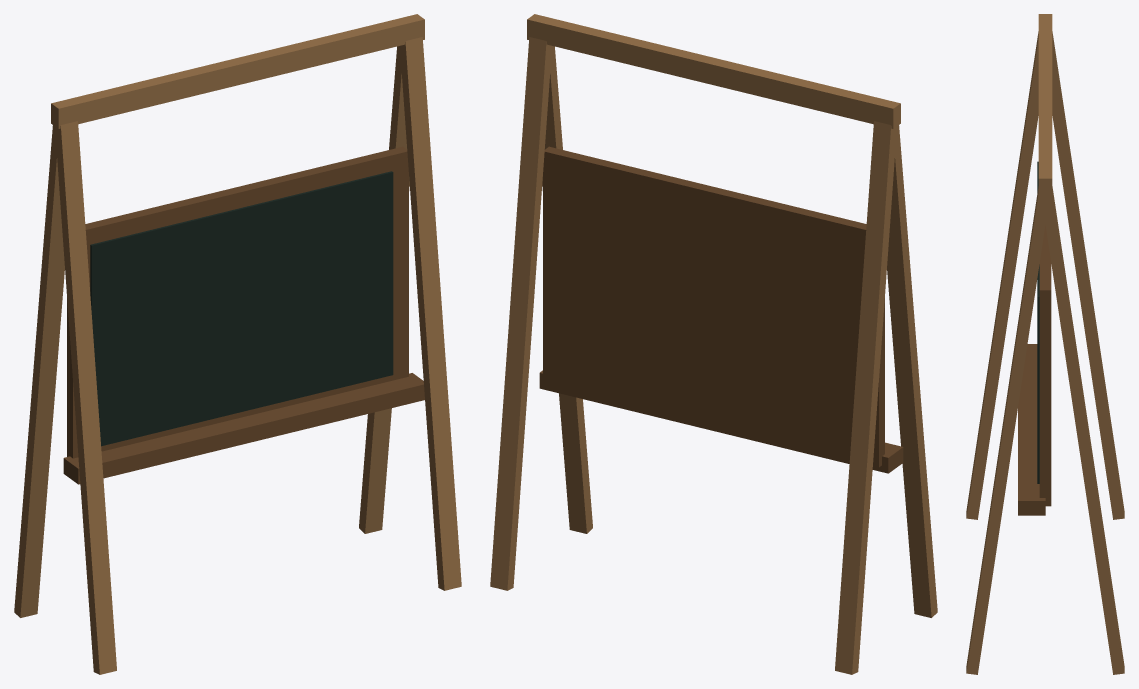
Rendered from gb-scoreboard.glb.
3 views of the same model, side by side, from view 1: azimuth 30°, elevation 25°; view 2: azimuth 150°, elevation 25°; view 3: azimuth 270°, elevation 25° (orthographic). The views are drawn at different scales.
Parts seen in each view (by area): view 1: gb-scoreboard; view 2: gb-scoreboard; view 3: gb-scoreboard.
Part boxes in pixels (bbox=[...]): gb-scoreboard: bbox=[14, 14, 461, 674]; gb-scoreboard: bbox=[490, 14, 937, 674]; gb-scoreboard: bbox=[966, 14, 1124, 674].
Size of the model in its own units: 1.7 by 2.39 by 0.6895.
